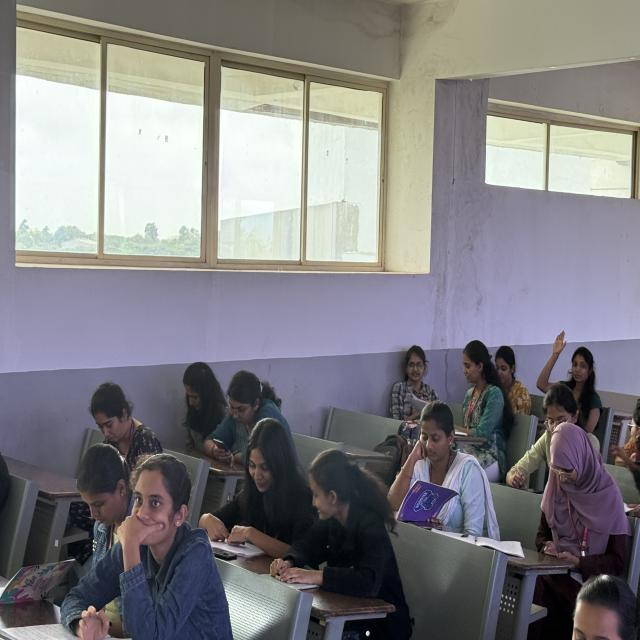Hand Rising: (535, 328, 621, 448)
Reading: (202, 417, 311, 567), (382, 401, 484, 546)
Using Phone: (520, 415, 640, 593), (206, 368, 295, 467)
